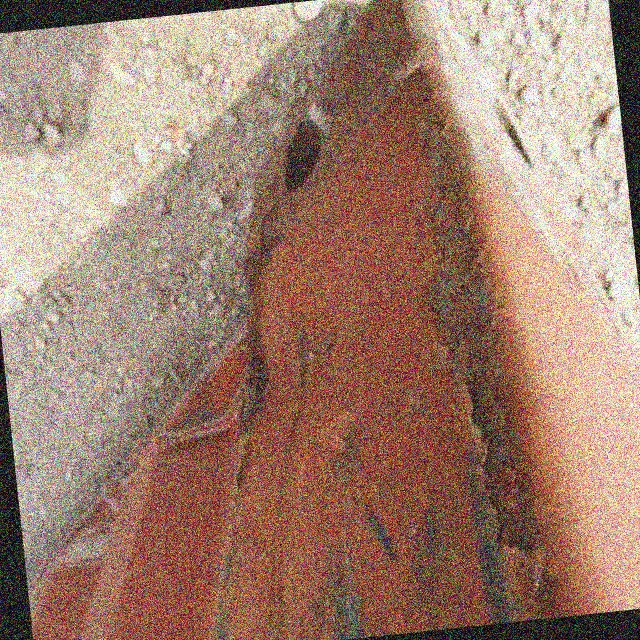Dent: (257, 181, 450, 463)
Rusty: (397, 95, 551, 566), (217, 304, 287, 496), (465, 468, 516, 626), (198, 519, 251, 640), (236, 227, 293, 294)
